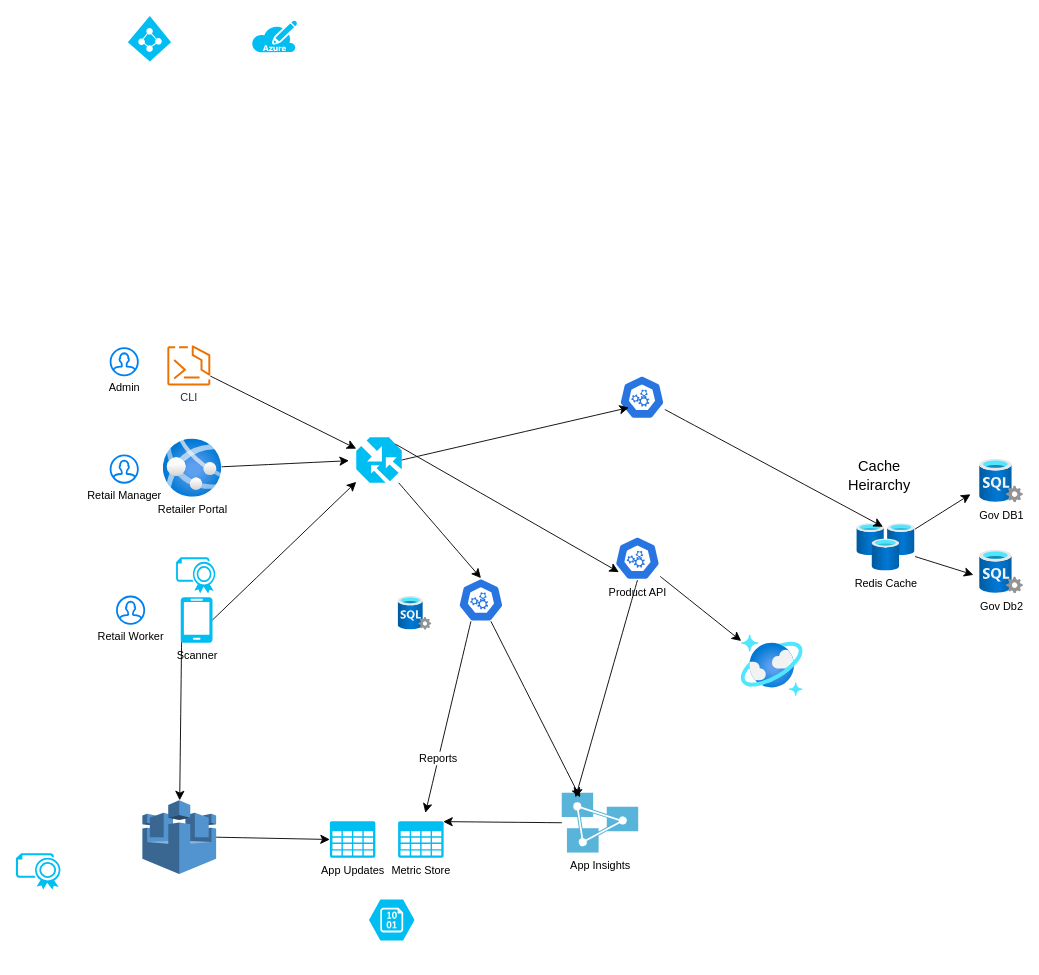
Some shapes in this 1039 by 975 pixel diagram are drawn without their labels. Each missing label, with the centre of its shape:
"API Gateway" goes at point 378,459.
"Blob Storage" goes at point 391,919.
"ENTRA ID APP" goes at point 149,38.
"Gov API Proxy" goes at point 641,396.
"IOT Hub" goes at point 179,836.
"Product DB" goes at point 772,665.
"Retailer API" goes at point 480,599.
